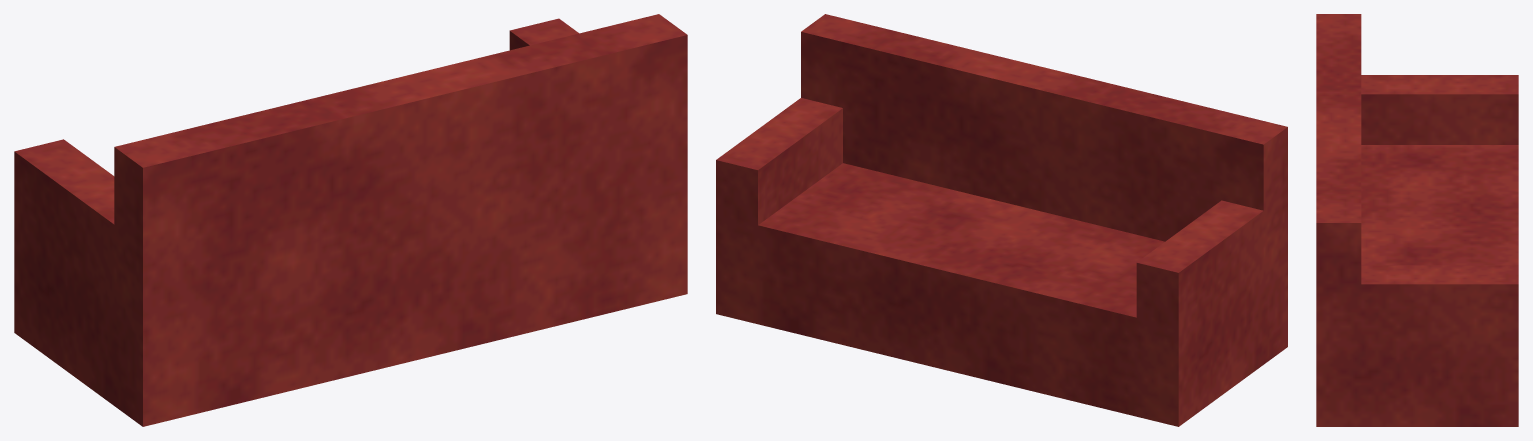
The model's file is sofa.obj.
3 renders of one model, left to right at view 1: azimuth 30°, elevation 25°; view 2: azimuth 150°, elevation 25°; view 3: azimuth 270°, elevation 25°, orthographic. The views are drawn at different scales.
Parts seen in each view (by area): view 1: rug; view 2: rug; view 3: rug.
Boxes of the visible parts, box(x1,y1,x2,y2) form: rug: box(14, 14, 687, 426); rug: box(716, 14, 1287, 426); rug: box(1316, 14, 1518, 426).
Size of the model in its own units: 2.2 by 1 by 0.9.
1 material, 1 textured.
